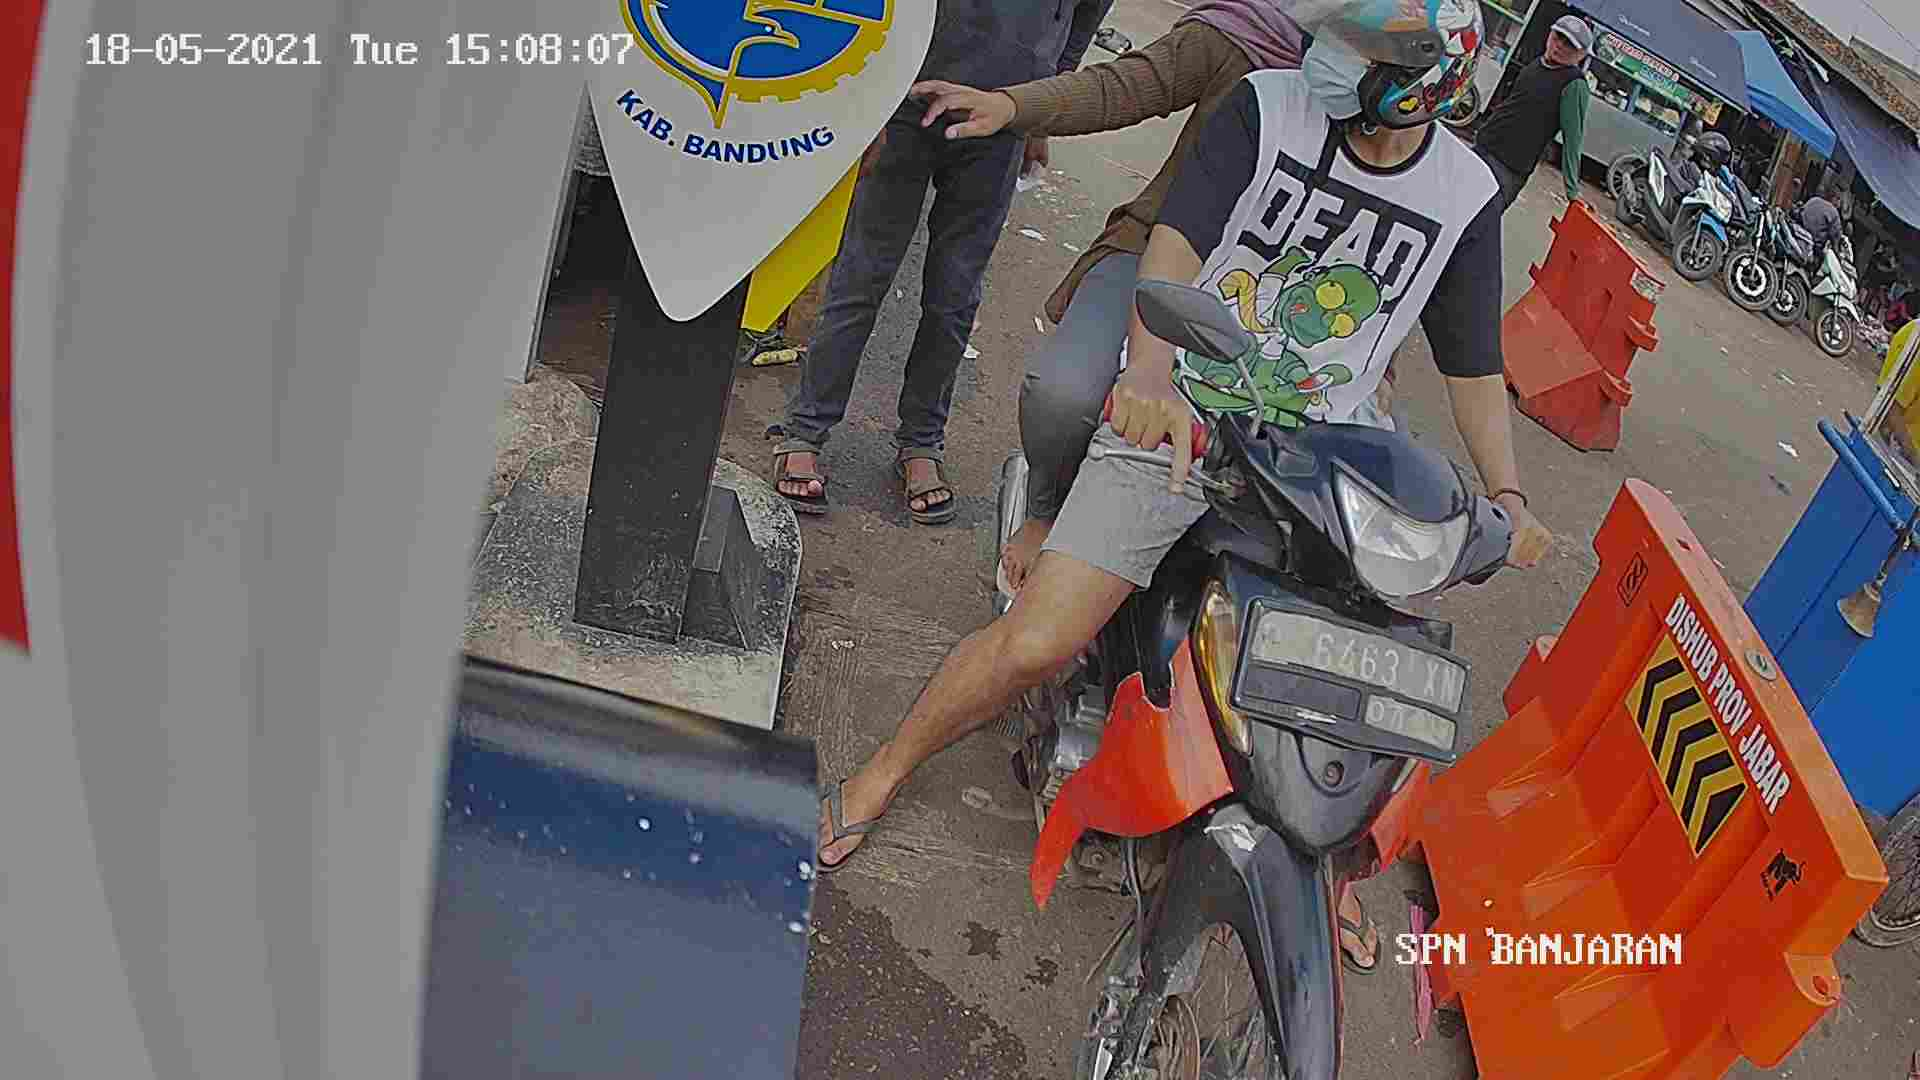motor: (1044, 344, 1567, 1080)
